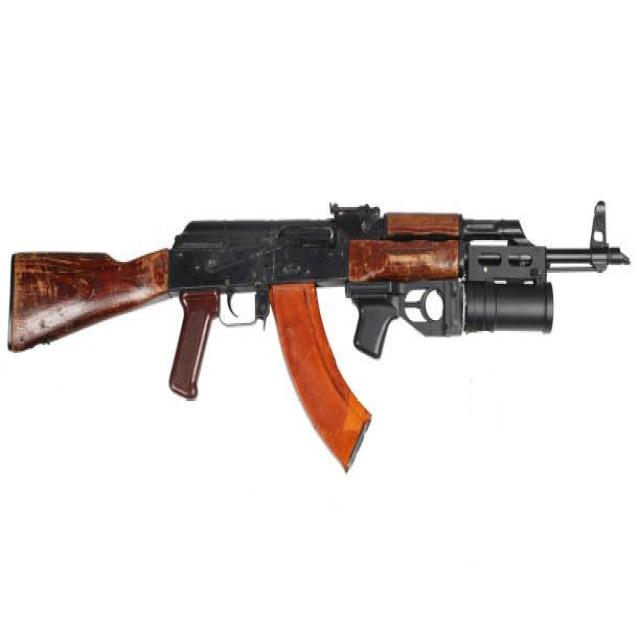rifle: (3, 194, 634, 472)
